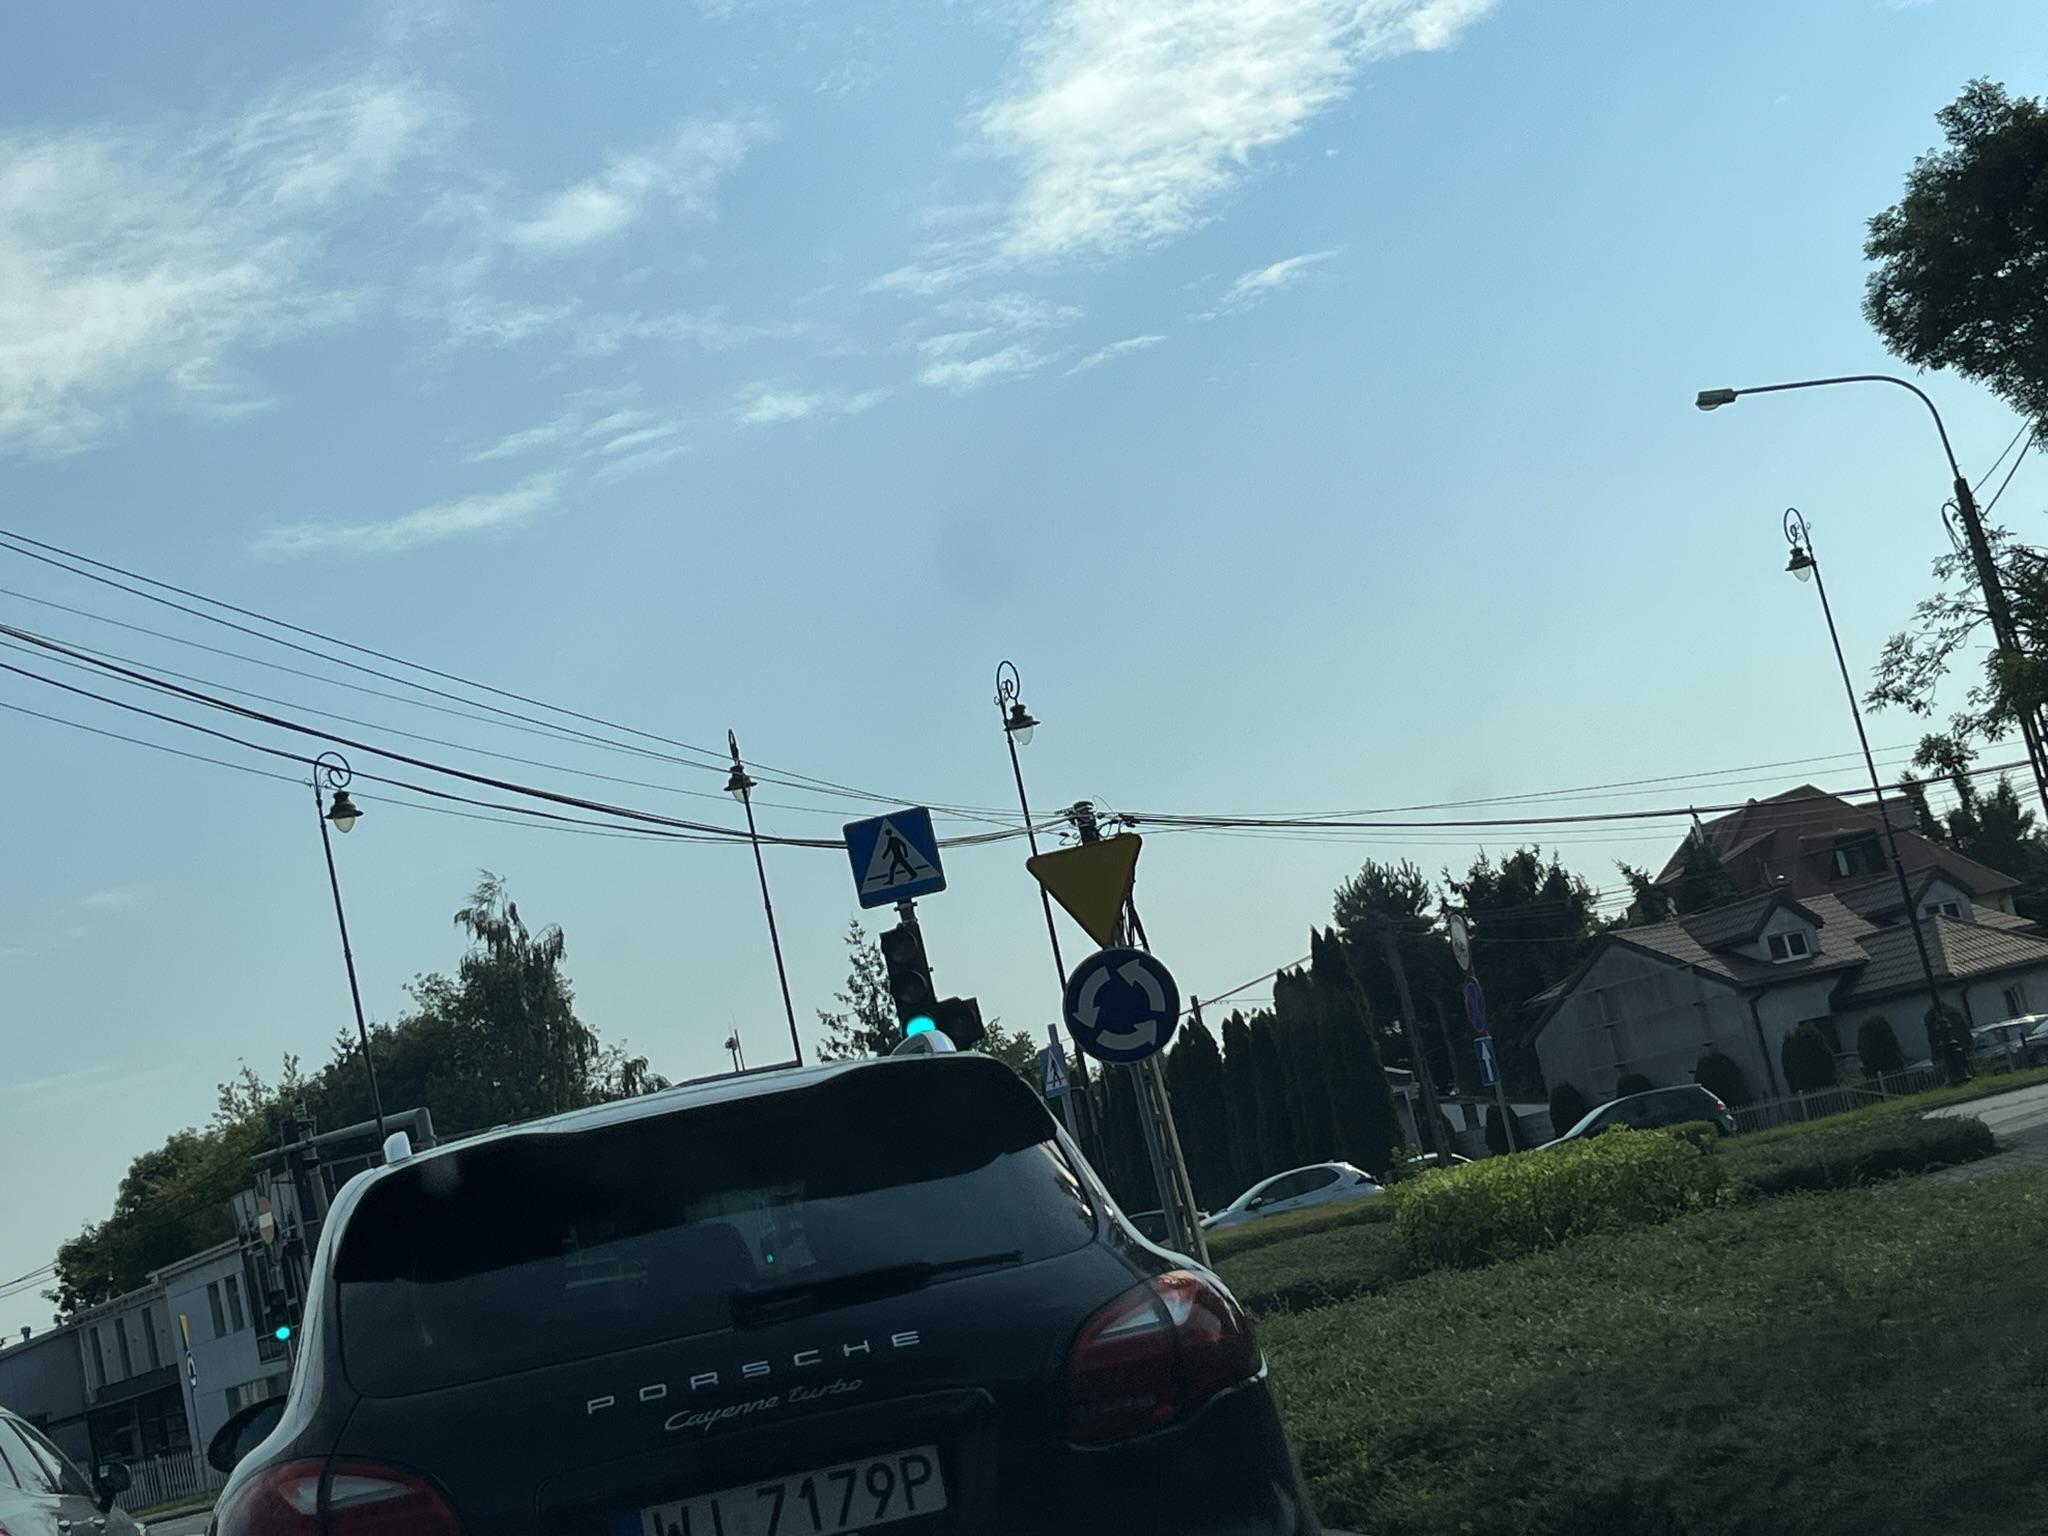information: (840, 805, 948, 912), (1037, 1042, 1072, 1099), (1472, 1036, 1501, 1087)
mandatory: (1063, 945, 1180, 1066), (187, 1357, 200, 1389)
prohibitory: (1461, 975, 1490, 1033), (1447, 913, 1472, 973), (255, 1199, 276, 1246)
warning: (1024, 831, 1143, 947), (177, 1312, 194, 1354)
